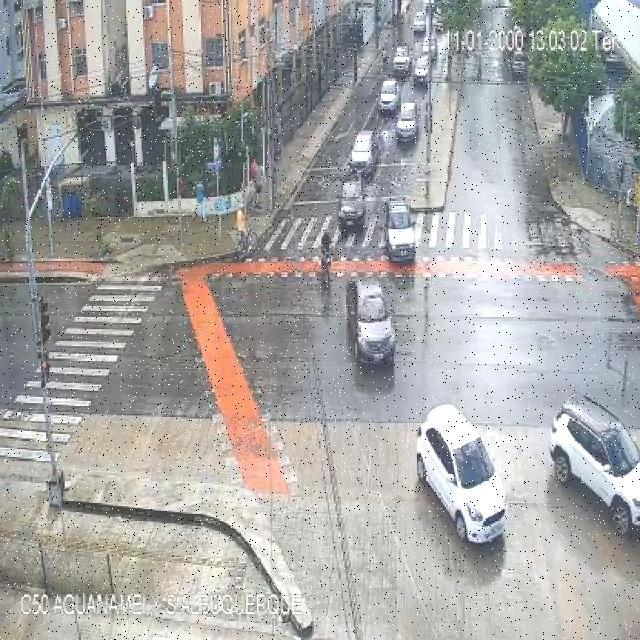Car: (404, 393, 514, 571), (539, 377, 639, 547), (339, 274, 401, 379), (380, 192, 434, 272), (344, 126, 379, 175), (333, 178, 365, 230), (394, 99, 423, 144), (378, 79, 401, 113), (508, 46, 530, 80), (392, 42, 412, 75), (413, 56, 435, 84)
Cycle: (308, 229, 342, 287), (224, 206, 260, 260)
